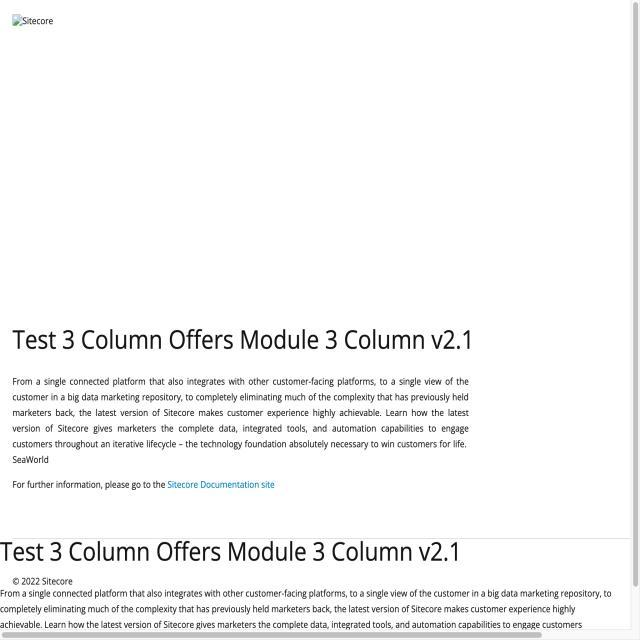link: (157, 478, 286, 498)
text: (3, 372, 483, 468), (0, 577, 634, 639)
